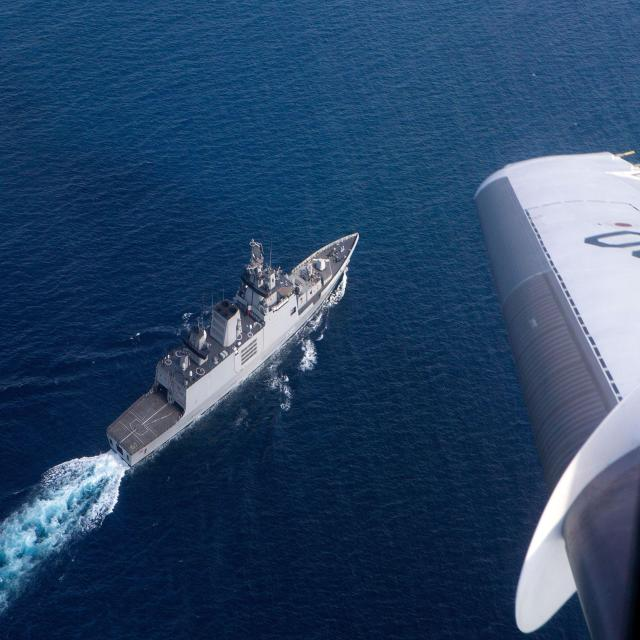Frigate-Shivalik-Class-IND: (105, 228, 360, 469)
